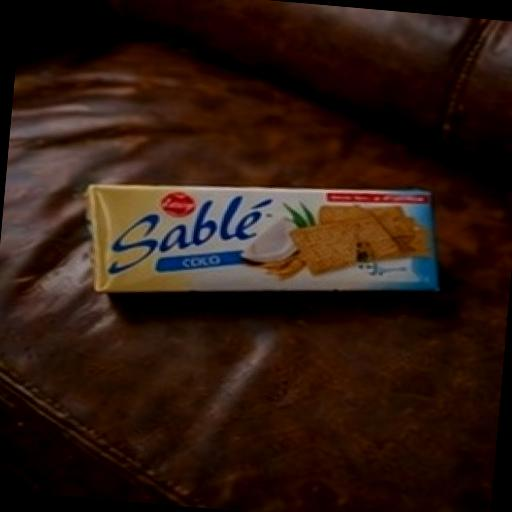sable: (38, 124, 511, 388)
